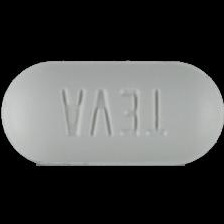0093-2210: (0, 0, 224, 224)
